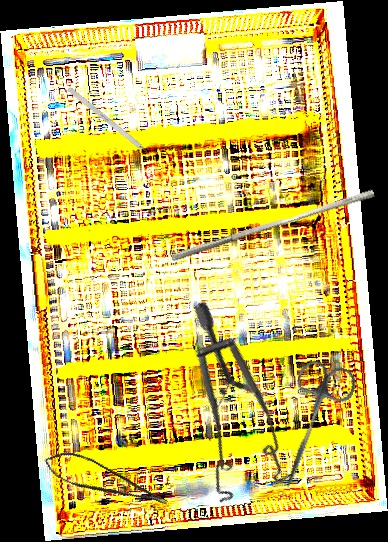Hook Surgical: (67, 86, 159, 163)
Iris Scissors: (263, 355, 360, 498)
Micro Scissor: (39, 439, 171, 528)
Pusher: (170, 182, 376, 270)
Speculum: (109, 298, 336, 527)
